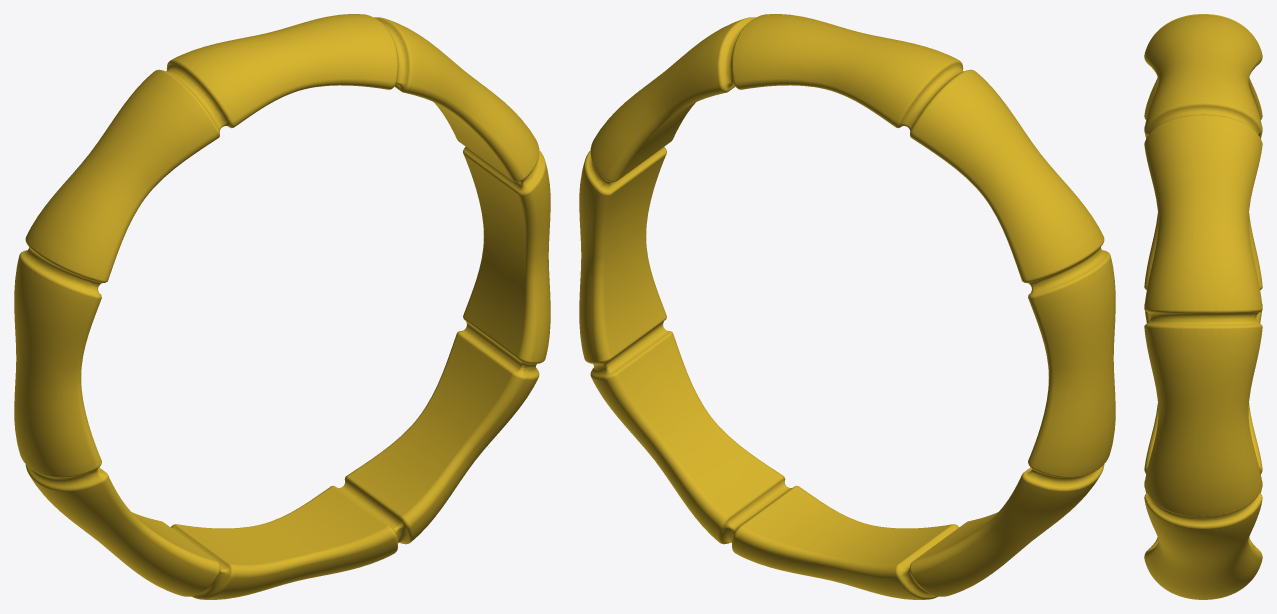
File: خاتم دهب.glb
3 views of the same model, side by side, from view 1: azimuth 30°, elevation 25°; view 2: azimuth 150°, elevation 25°; view 3: azimuth 270°, elevation 25° (orthographic). The views are drawn at different scales.
Visible parts, largest first — view 1: Object_2; view 2: Object_2; view 3: Object_2.
Part boxes in pixels (x1,y1,x2,y2): Object_2: (14, 14, 550, 599); Object_2: (579, 14, 1115, 599); Object_2: (1144, 14, 1262, 599).
Bounding box in the file's own units: 703442 × 703442 × 147700.
